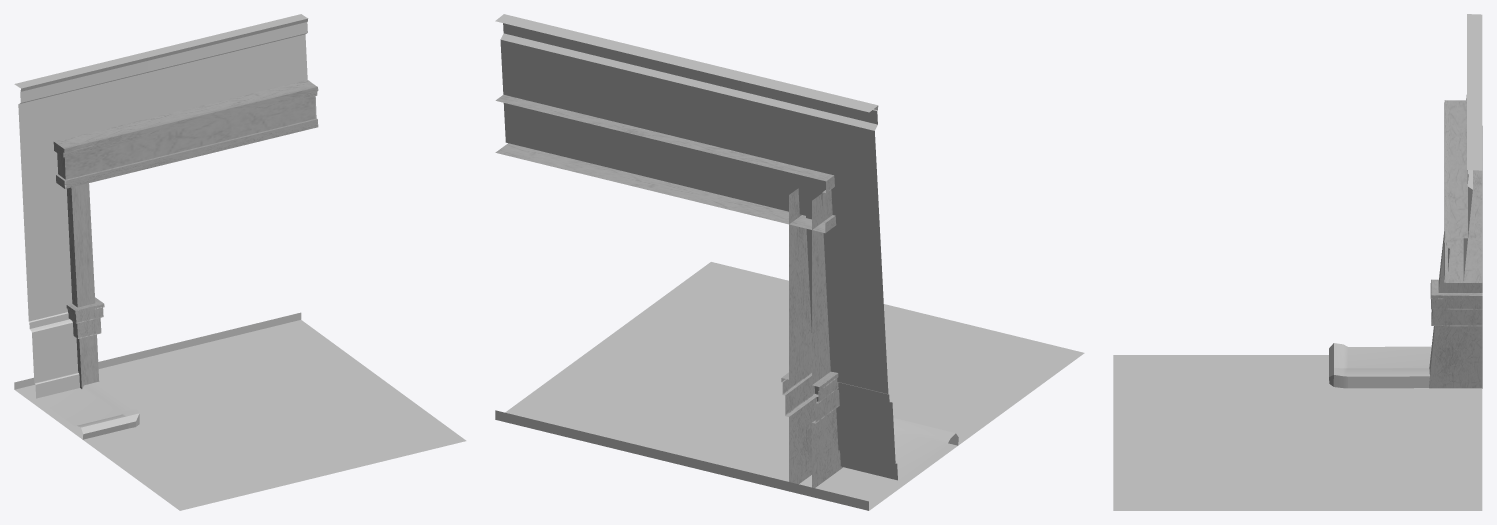
File: exteriorBrick_DoorLeft.fbx
The picture shows the model from 3 angles, left to right: view 1: azimuth 30°, elevation 25°; view 2: azimuth 150°, elevation 25°; view 3: azimuth 270°, elevation 25°; orthographic projection. The views are drawn at different scales.
Visible parts, largest first — view 1: exteriorBrick_DoorLeft; view 2: exteriorBrick_DoorLeft; view 3: exteriorBrick_DoorLeft.
Boxes of the visible parts, x1=… form: exteriorBrick_DoorLeft: x1=14, y1=14, x2=466, y2=510; exteriorBrick_DoorLeft: x1=495, y1=14, x2=1084, y2=510; exteriorBrick_DoorLeft: x1=1113, y1=14, x2=1482, y2=510.
Bounding box in the file's own units: 3.01 × 3.07 × 3.
